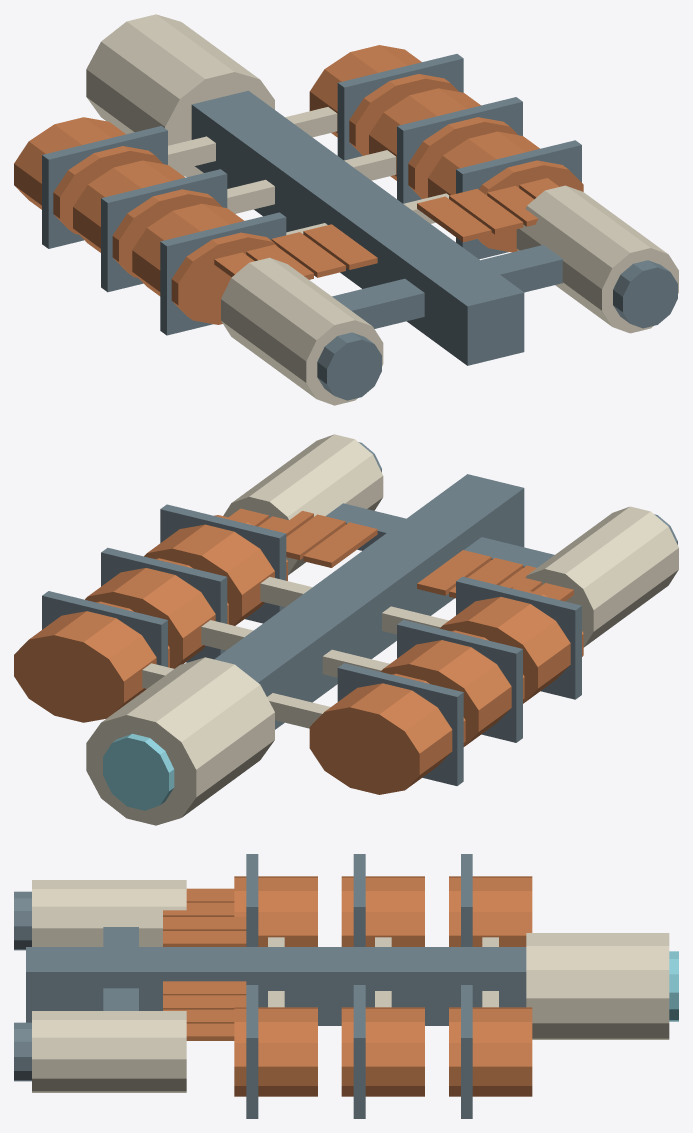
The model's file is AssayTender.gltf.
3 views of the same model, one above another, from view 1: azimuth 30°, elevation 25°; view 2: azimuth 150°, elevation 25°; view 3: azimuth 270°, elevation 25° (orthographic). The views are drawn at different scales.
Parts seen in each view (by area): view 1: Assay vessel (×6), Keel, Engine nacelle (×2), Service collar (×6), Flight deck, Radiator leaf (×6), Exhaust bell (×2), Aft yoke (×2), Load crossmember (×4); view 2: Assay vessel (×6), Keel, Service collar (×6), Engine nacelle (×2), Flight deck, Radiator leaf (×5), Load crossmember (×5), Forward optics, Aft yoke (×2); view 3: Assay vessel (×6), Keel, Engine nacelle (×2), Flight deck, Service collar (×6), Radiator leaf (×8), Exhaust bell (×2), Aft yoke (×2), Forward optics.
Boxes of the visible parts, box(x1,y1,x2,y2) form: Assay vessel (×6): box(14, 45, 583, 324); Keel: box(191, 90, 524, 365); Engine nacelle (×2): box(221, 185, 678, 405); Service collar (×6): box(42, 54, 581, 335); Flight deck: box(86, 14, 274, 177); Radiator leaf (×6): box(246, 185, 538, 279); Exhaust bell (×2): box(317, 260, 677, 400); Aft yoke (×2): box(332, 245, 563, 328); Load crossmember (×4): box(168, 107, 396, 213); Assay vessel (×6): box(14, 515, 583, 794); Keel: box(214, 474, 524, 729); Service collar (×6): box(42, 504, 581, 785); Engine nacelle (×2): box(223, 434, 678, 647); Flight deck: box(86, 657, 274, 825); Radiator leaf (×5): box(258, 511, 523, 598); Load crossmember (×5): box(201, 577, 448, 728); Forward optics: box(103, 733, 174, 810); Aft yoke (×2): box(326, 503, 554, 567); Assay vessel (×6): box(234, 876, 532, 1096); Keel: box(26, 947, 526, 1025); Engine nacelle (×2): box(32, 880, 186, 1092); Flight deck: box(526, 933, 669, 1039); Service collar (×6): box(246, 854, 472, 1118); Radiator leaf (×8): box(163, 888, 246, 1040); Exhaust bell (×2): box(14, 891, 31, 1081); Aft yoke (×2): box(103, 927, 138, 1010); Forward optics: box(669, 951, 678, 1021).
Bounding box in the file's own units: 36.5 × 8.69 × 55.8.
